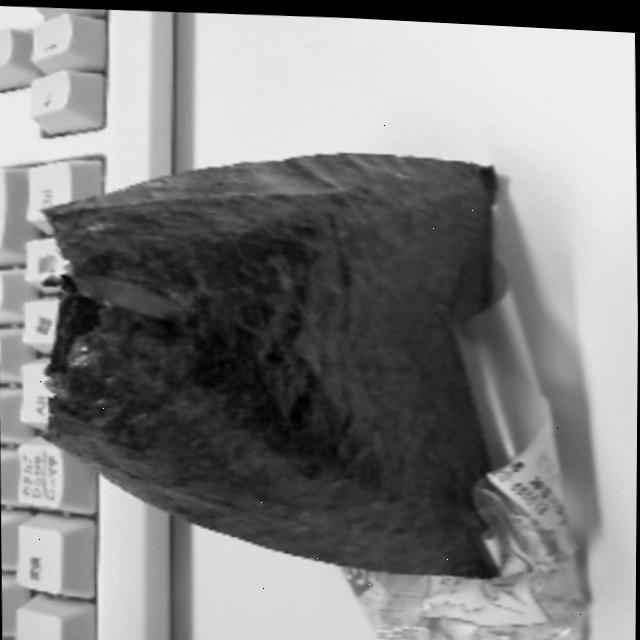米饭主食: (0, 118, 538, 609)
